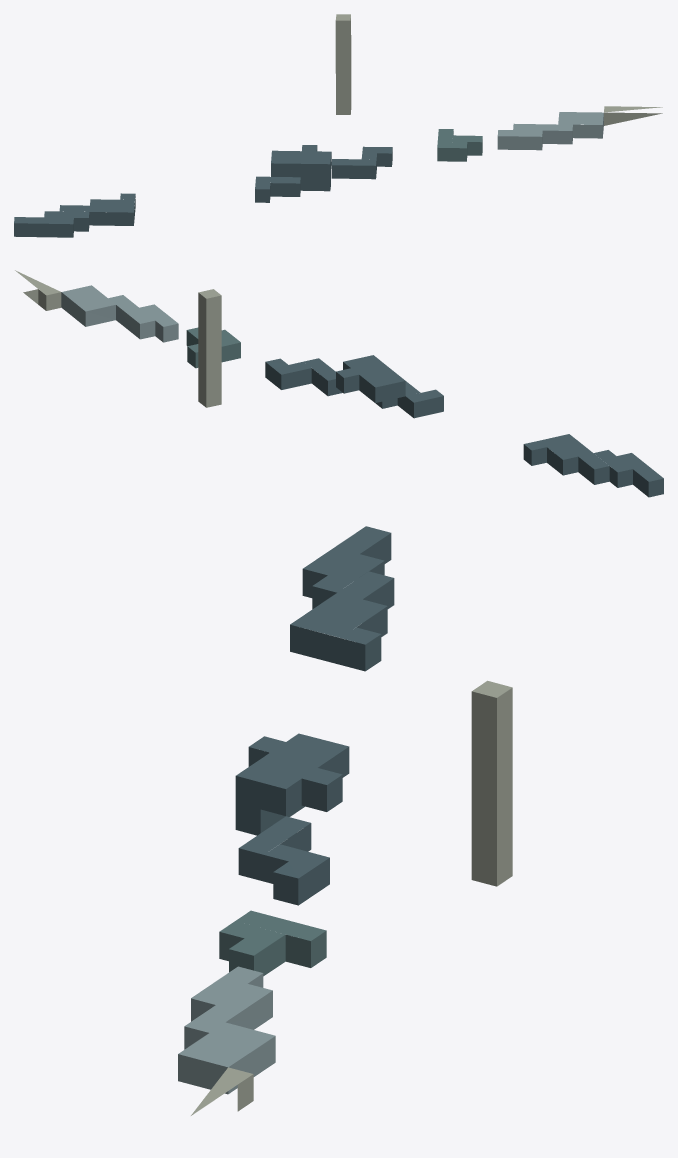
3 renders of one model, top to bottom at view 1: azimuth 30°, elevation 25°; view 2: azimuth 150°, elevation 25°; view 3: azimuth 270°, elevation 25°, orthographic. The views are drawn at different scales.
Visible parts, largest first — view 1: measured-industrial; view 2: measured-industrial; view 3: measured-industrial.
Boxes of the visible parts, x1=… form: measured-industrial: x1=14, y1=14, x2=662, y2=237; measured-industrial: x1=15, y1=270, x2=663, y2=497; measured-industrial: x1=178, y1=526, x2=512, y2=1115.
Bounding box in the file's own units: 47.06 × 8.02 × 11.68.
